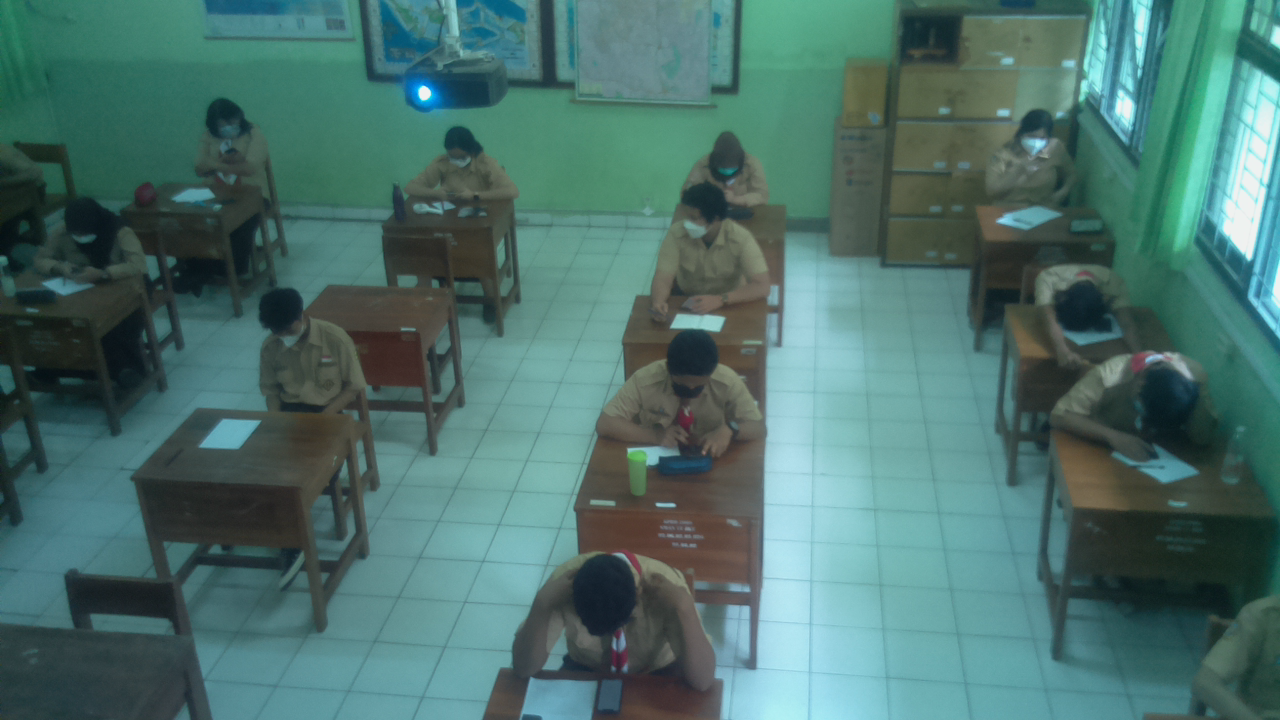Student: (549, 547, 697, 671), (631, 327, 749, 438), (255, 287, 362, 402), (1089, 343, 1214, 437), (665, 187, 757, 294), (991, 109, 1074, 202), (47, 203, 144, 280), (421, 127, 507, 201), (1033, 265, 1129, 330), (207, 99, 272, 189), (689, 129, 762, 202)
